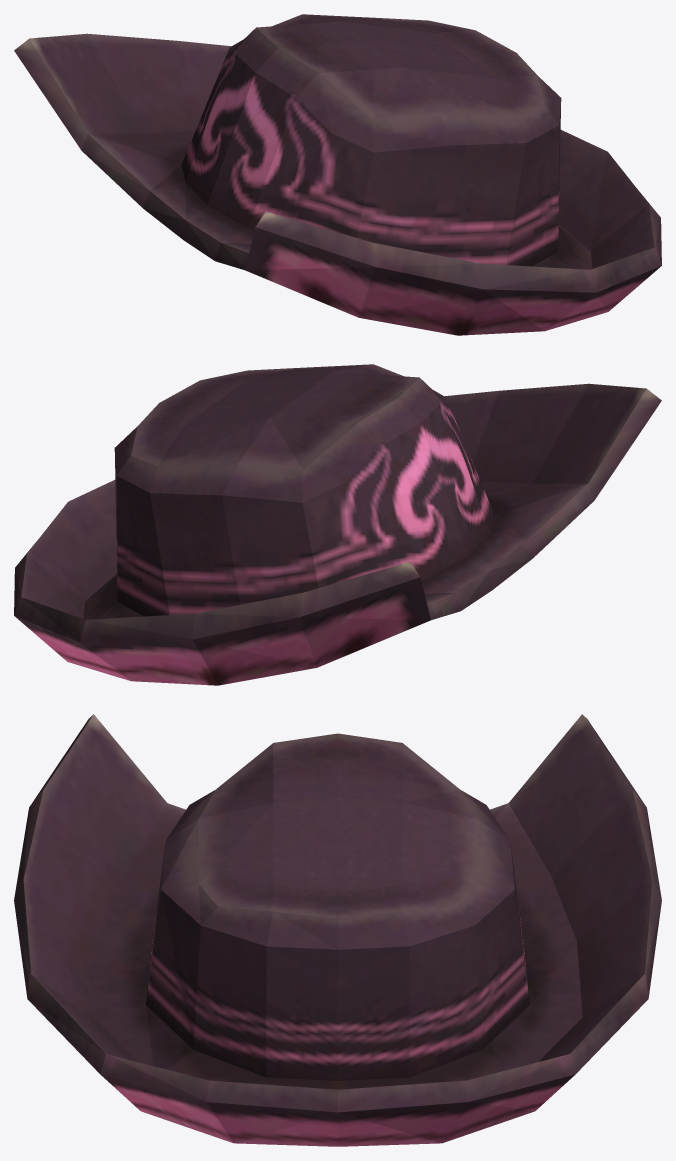
File: Rabbit_merchantHat.obj
The picture shows the model from 3 angles, top to bottom: view 1: azimuth 30°, elevation 25°; view 2: azimuth 150°, elevation 25°; view 3: azimuth 270°, elevation 25°; orthographic projection. The views are drawn at different scales.
Visible parts, largest first — view 1: Rabbit_merchantHat_tri; view 2: Rabbit_merchantHat_tri; view 3: Rabbit_merchantHat_tri.
Boxes of the visible parts, box(x1,y1,x2,y2) form: Rabbit_merchantHat_tri: box(14, 14, 661, 335); Rabbit_merchantHat_tri: box(14, 364, 661, 685); Rabbit_merchantHat_tri: box(14, 714, 661, 1146).
Bounding box in the file's own units: 0.3813 × 0.1954 × 0.4282.
Materials: 1 (1 with a texture image).
